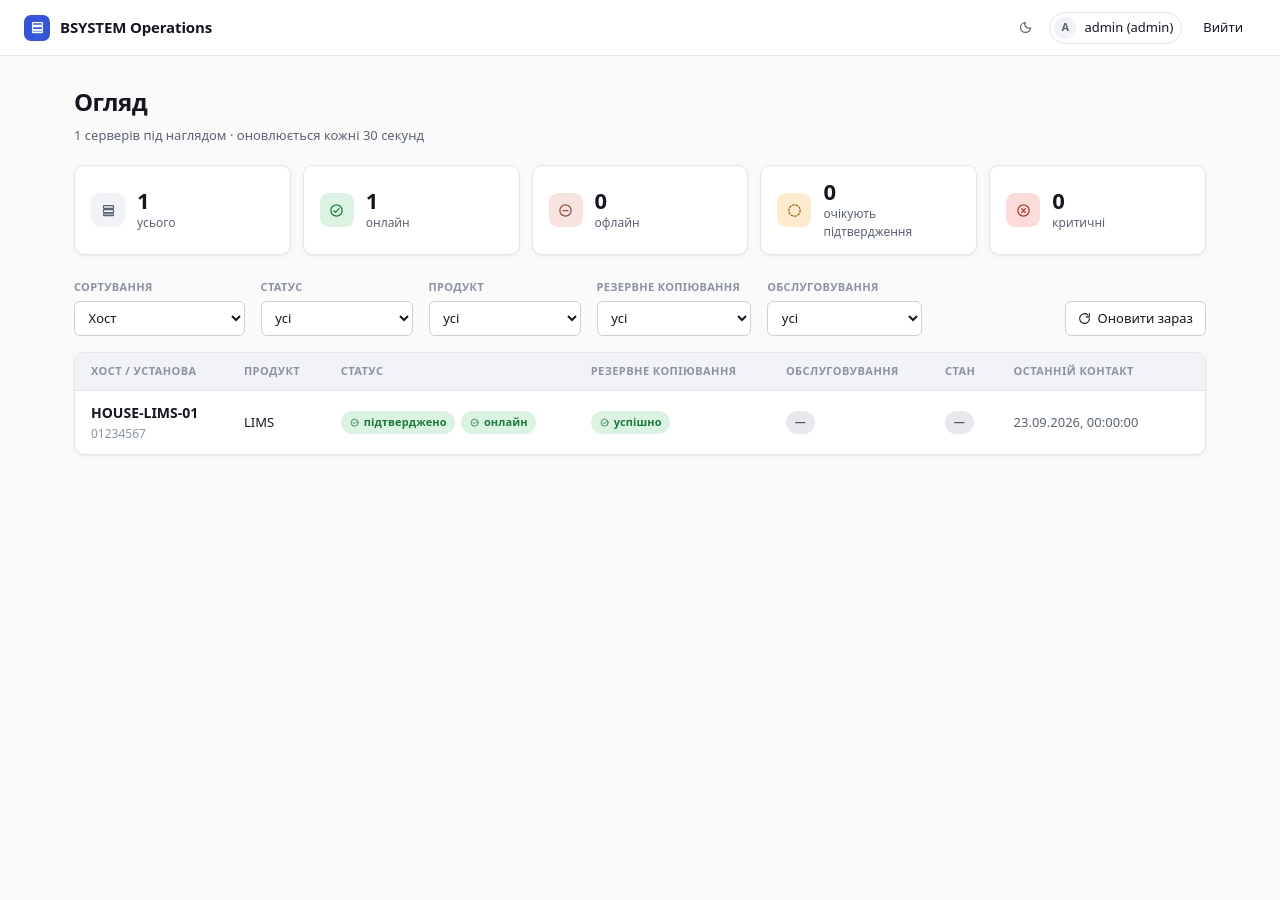
Test: App › logs out back to the login page
Expected: the button "HOUSE-LIMS-01" is shown, [91,402,198,423]
Click the button "Вийти" at (1223, 28), box [1190,10,1256,45]
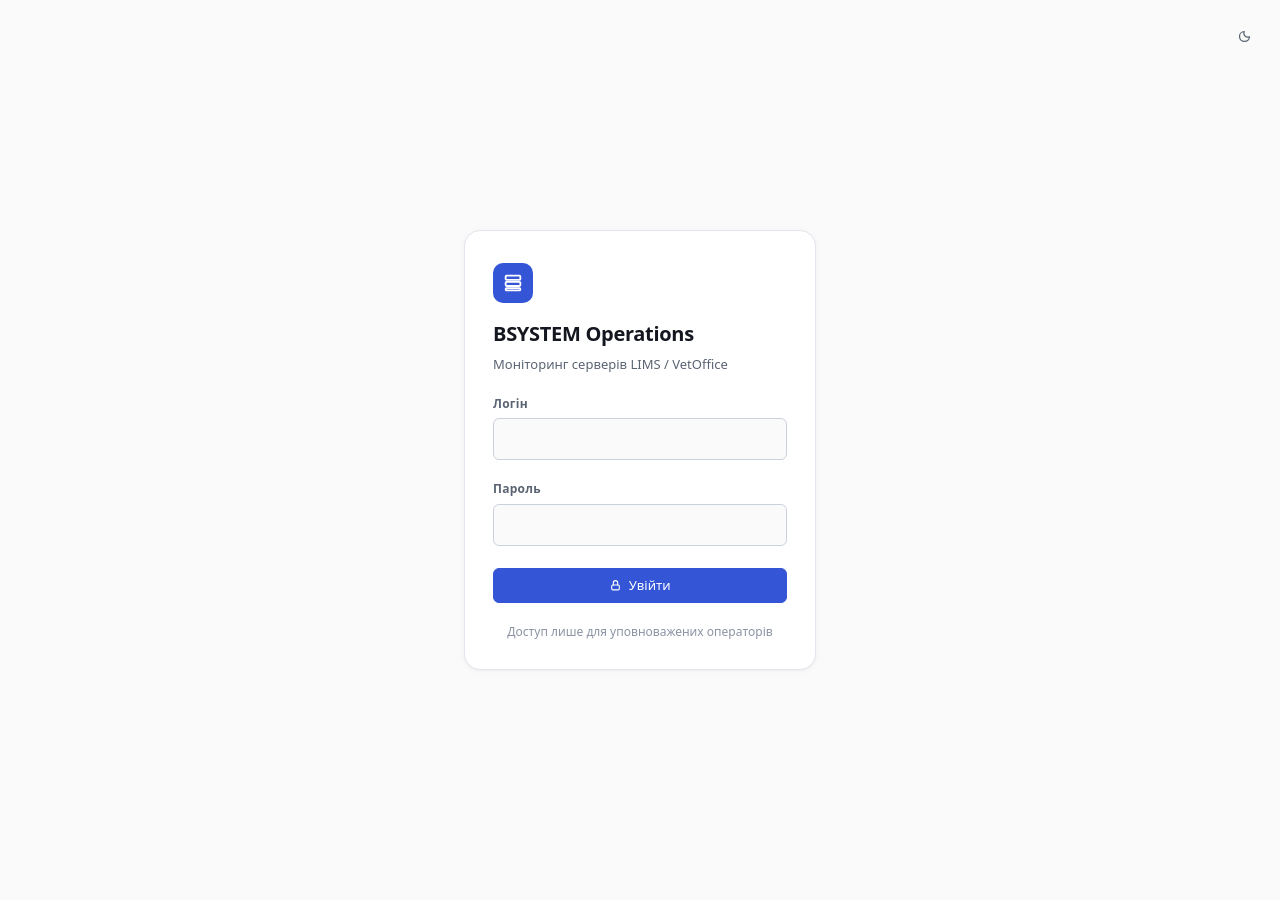
Expected: the field labelled "Логін" is shown, [493,418,787,460]
